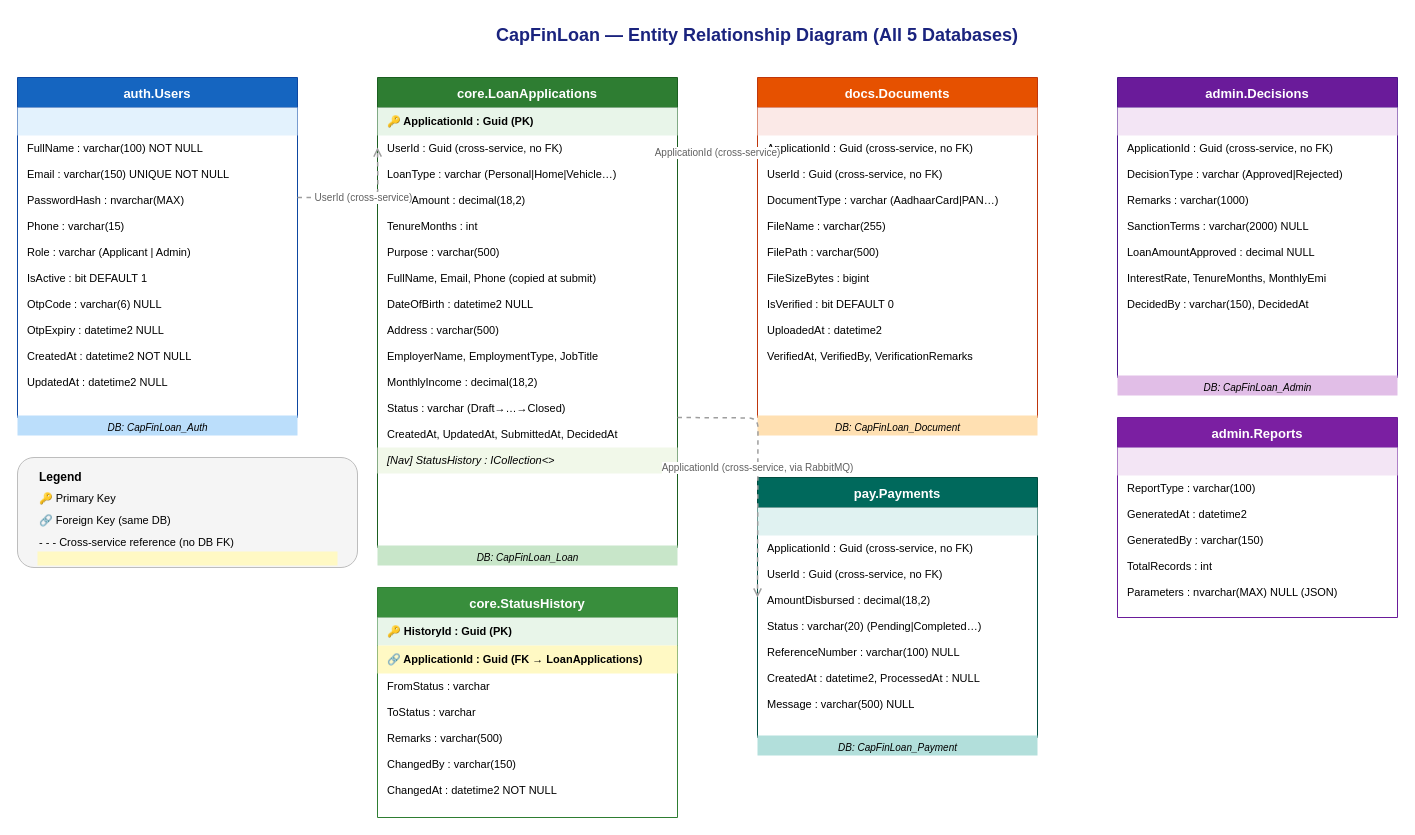
The diagram is 1415 pixels wide and 835 high, and some of its shapes have lost their labels. The centre of each missing label's shape, as x and y in pixels:
"Note: No cross-database foreign keys by design (microservices isolation)" goes at point (187, 558).
"🔑 DecisionId : Guid (PK)" goes at point (1257, 121).
"🔑 DocumentId : Guid (PK)" goes at point (897, 121).
"🔑 PaymentId : Guid (PK)" goes at point (897, 521).
"🔑 ReportId : Guid (PK)" goes at point (1257, 461).
"🔑 UserId : Guid (PK)" goes at point (157, 121).
